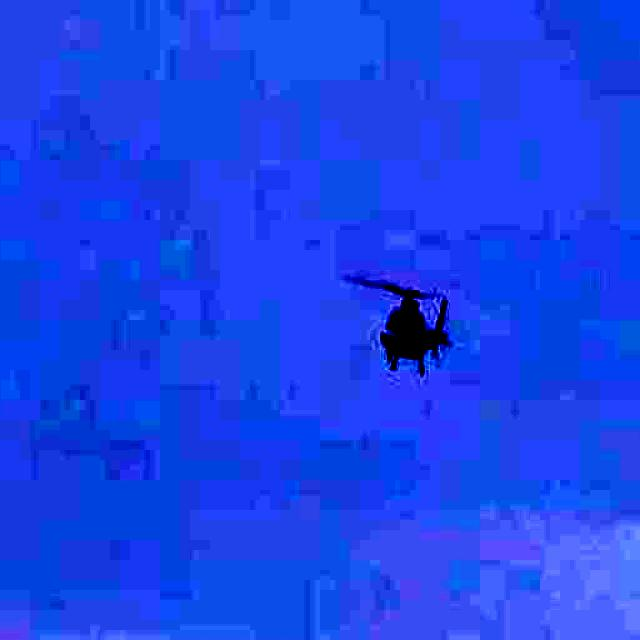drone: (309, 248, 495, 396)
